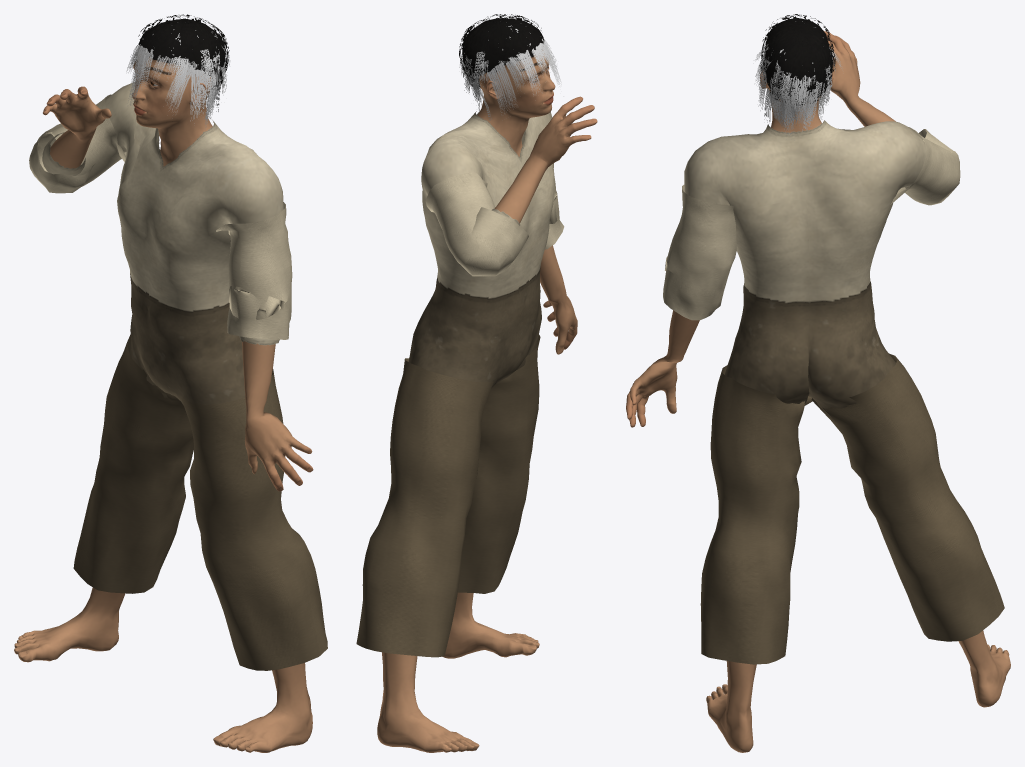
File: SM_Art_Person_youth.gltf
3 views of the same model, side by side, from view 1: azimuth 30°, elevation 25°; view 2: azimuth 150°, elevation 25°; view 3: azimuth 270°, elevation 25° (orthographic). The views are drawn at different scales.
Parts seen in each view (by area): view 1: SM_Art_Person_youth; view 2: SM_Art_Person_youth; view 3: SM_Art_Person_youth.
Boxes of the visible parts, bbox=[...] form: SM_Art_Person_youth: bbox=[14, 14, 327, 752]; SM_Art_Person_youth: bbox=[356, 14, 597, 752]; SM_Art_Person_youth: bbox=[626, 14, 1010, 752].
Bounding box in the file's own units: 0.5693 × 1.7 × 0.8611.
Materials: 11 (11 with a texture image).
